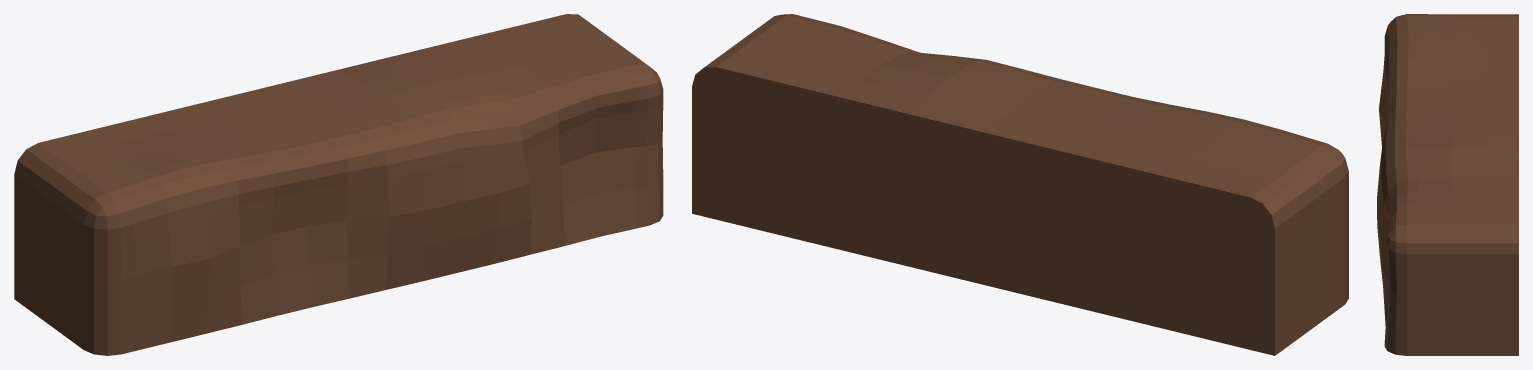
File: Dirt_platform02.fbx
3 renders of one model, left to right at view 1: azimuth 30°, elevation 25°; view 2: azimuth 150°, elevation 25°; view 3: azimuth 270°, elevation 25°, orthographic. The views are drawn at different scales.
Parts seen in each view (by area): view 1: Cube; view 2: Cube; view 3: Cube.
Part boxes in pixels (<box>): Cube: <box>14,14,663,355</box>; Cube: <box>692,14,1348,355</box>; Cube: <box>1377,14,1518,355</box>.
Size of the model in its own units: 800 by 207 by 211.
